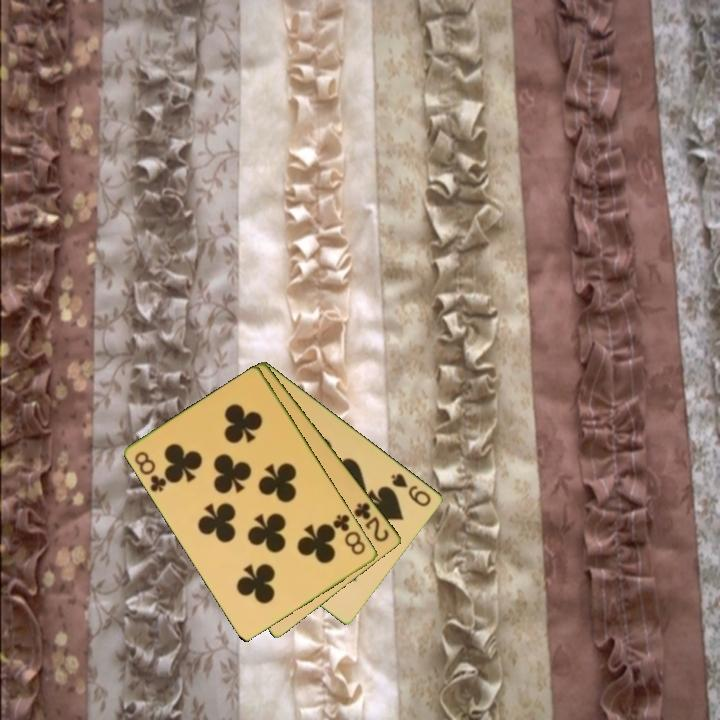2c: (351, 499, 392, 545)
8c: (329, 510, 369, 558), (131, 448, 170, 495)
9s: (388, 469, 434, 510)
